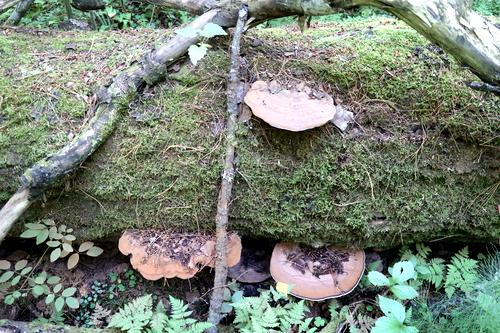Ganoderma - Fruit Body: (117, 228, 244, 280), (270, 241, 366, 300), (243, 79, 338, 132)
